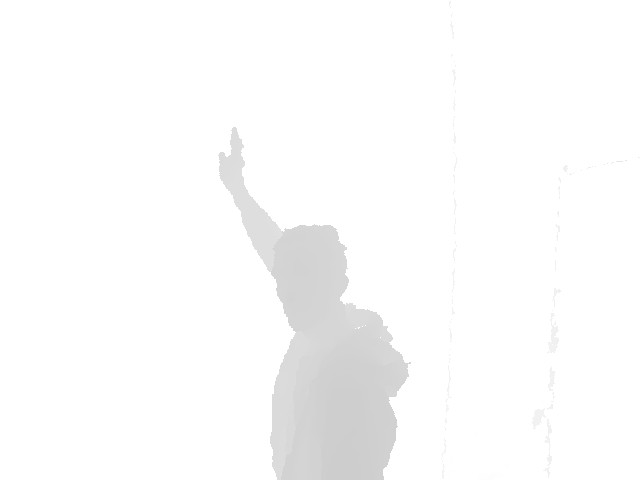hand: (218, 126, 246, 185)
head: (271, 223, 350, 329)
person: (218, 126, 411, 479)
